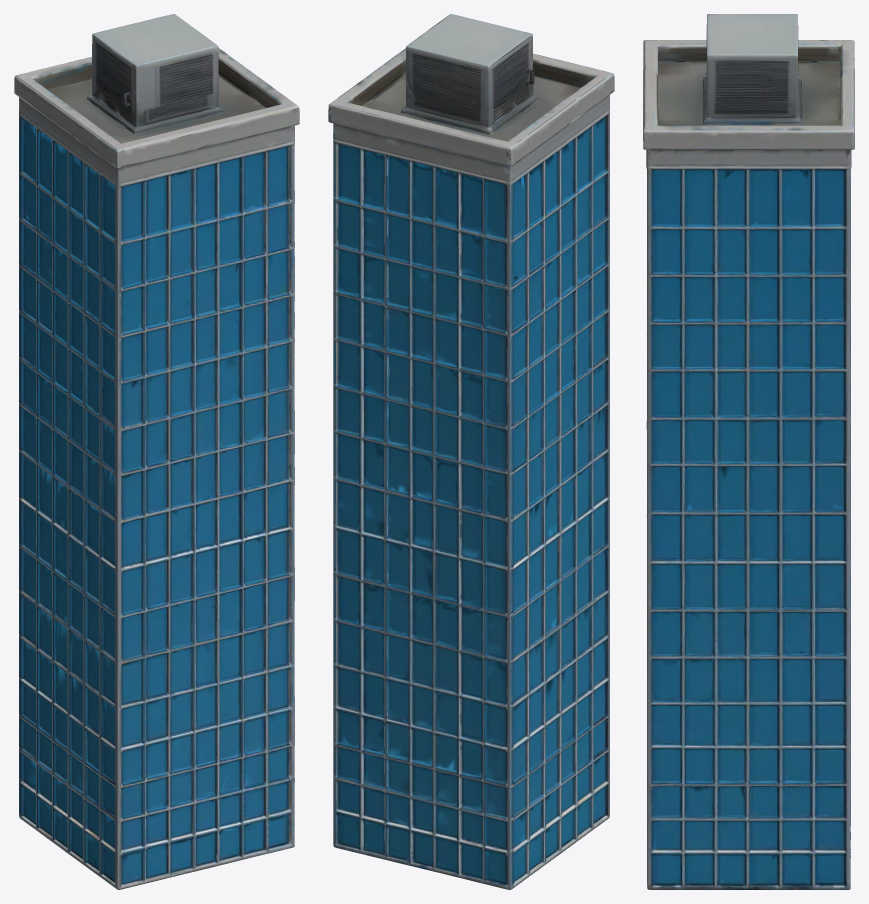
The model's file is A_tall_pencil-slim_glass_office_tower_with_a_blue_curtain-wall_grid_and_a_small_rooftop_mechanical_box.glb.
3 views of the same model, side by side, from view 1: azimuth 30°, elevation 25°; view 2: azimuth 150°, elevation 25°; view 3: azimuth 270°, elevation 25° (orthographic). The views are drawn at different scales.
Parts seen in each view (by area): view 1: node_0; view 2: node_0; view 3: node_0.
Boxes of the visible parts, box(x1,y1,x2,y2) form: node_0: box(14, 14, 299, 889); node_0: box(328, 14, 614, 889); node_0: box(643, 14, 854, 889).
Bounding box in the file's own units: 0.2764 × 1.14 × 0.2702.
1 material, 1 textured.
